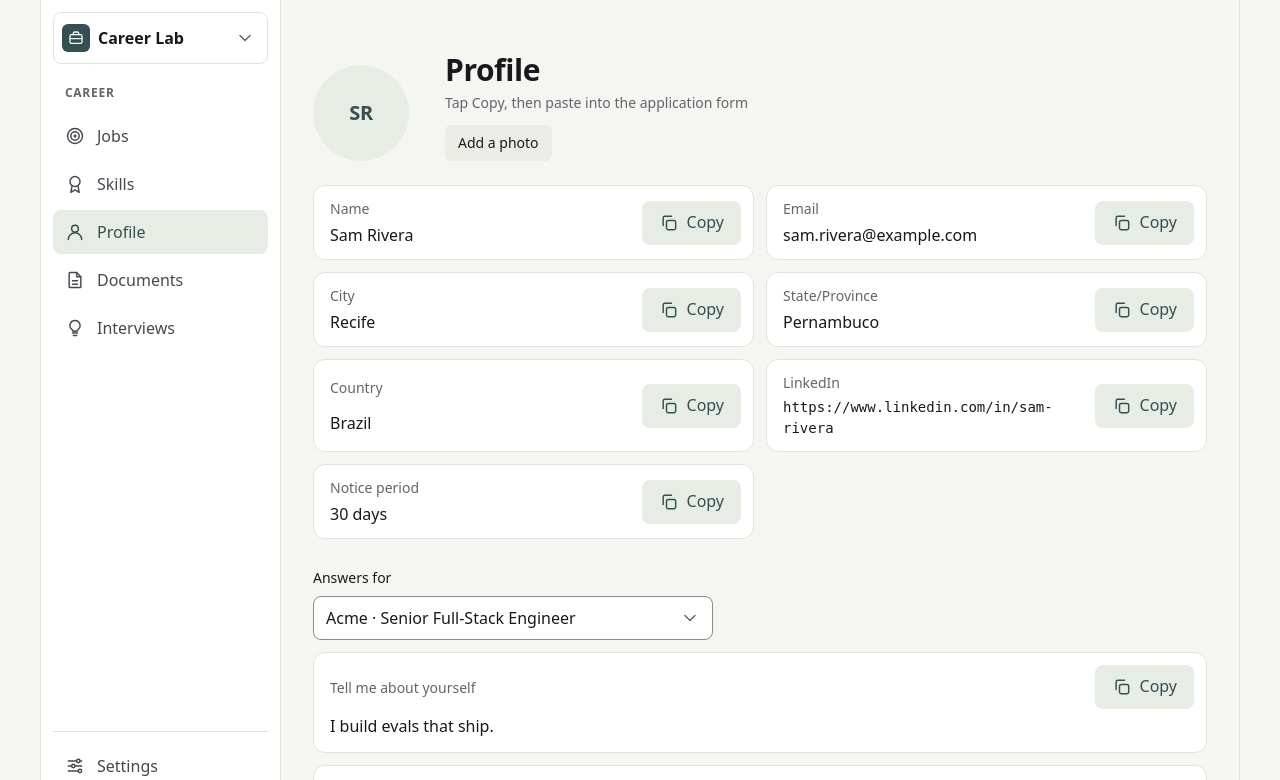
Test: Profile copy panel › copies a value, and shows a toast when the clipboard refuses
The image size is (1280, 780).
Click the button with aria-label "Copy email": (1144, 222) x1=1094 y1=200 x2=1194 y2=244
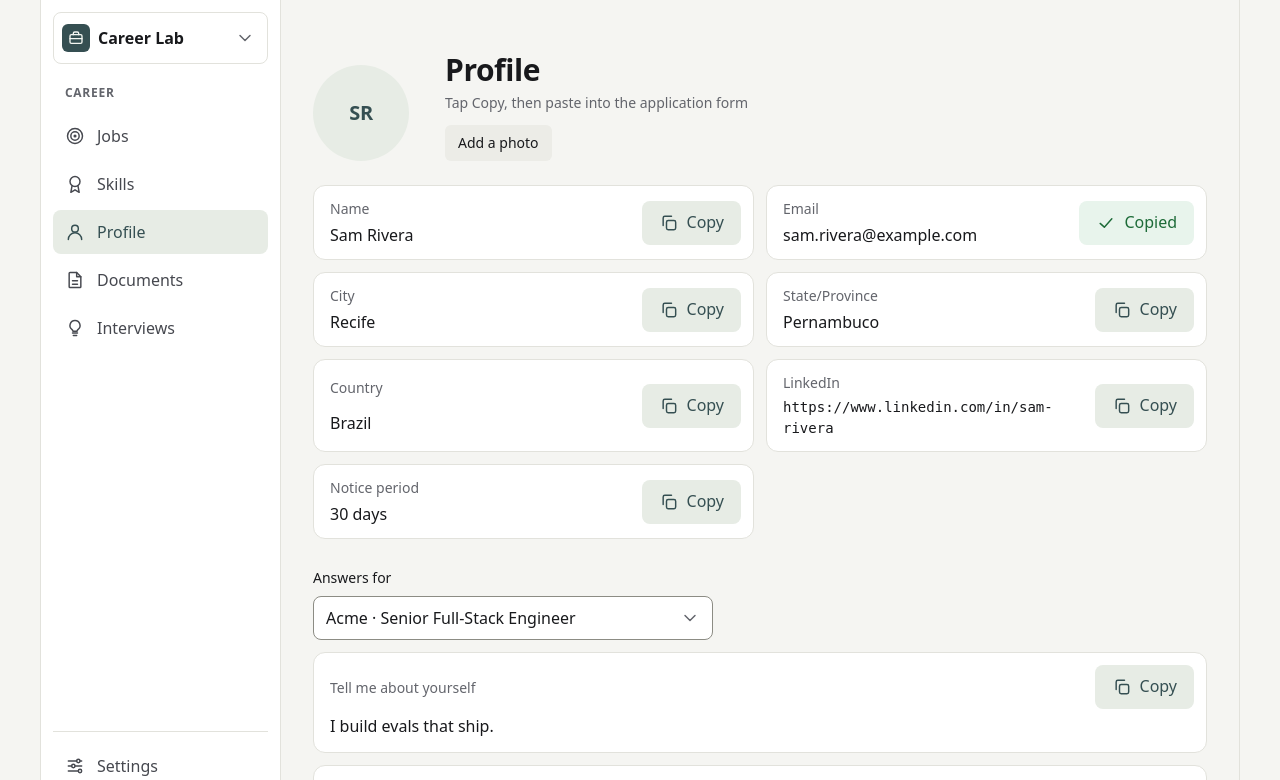
expect the button with aria-label "Copied email" is shown: met, box x1=1079 y1=200 x2=1194 y2=244
Click the button with aria-label "Copy name": (691, 222) x1=642 y1=200 x2=741 y2=244
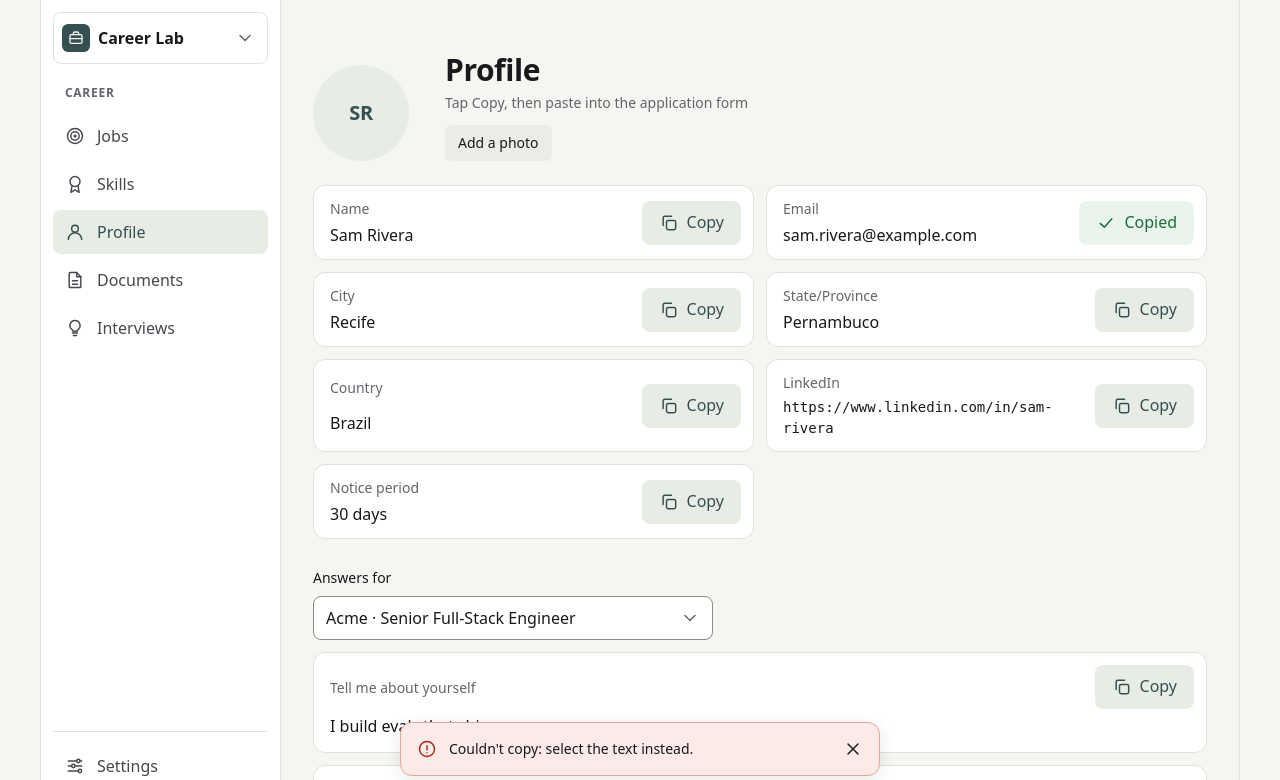
expect the text "Couldn't copy: select the text instead." is shown: met, box x1=449 y1=738 x2=693 y2=758
